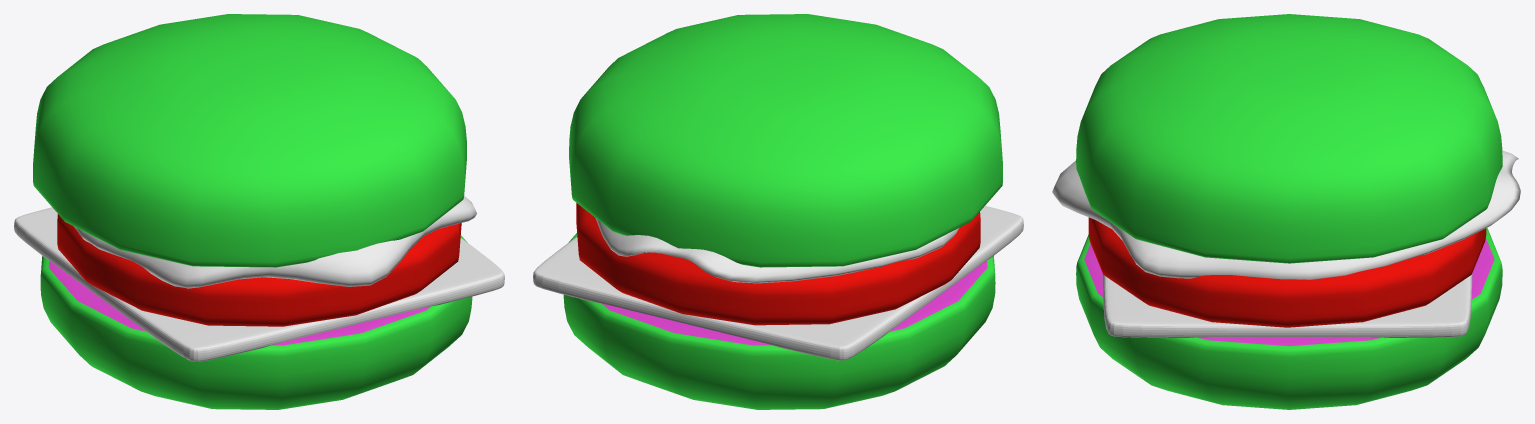
Rendered from Burger.fbx.
3 views of the same model, side by side, from view 1: azimuth 30°, elevation 25°; view 2: azimuth 150°, elevation 25°; view 3: azimuth 270°, elevation 25° (orthographic).
Parts seen in each view (by area): view 1: Cube.027; view 2: Cube.027; view 3: Cube.027.
Part boxes in pixels (x1,y1,x2,y2): Cube.027: (14,14,504,409); Cube.027: (533,14,1023,409); Cube.027: (1052,14,1520,409).
Size of the model in its own units: 44.95 by 34.58 by 48.42.
